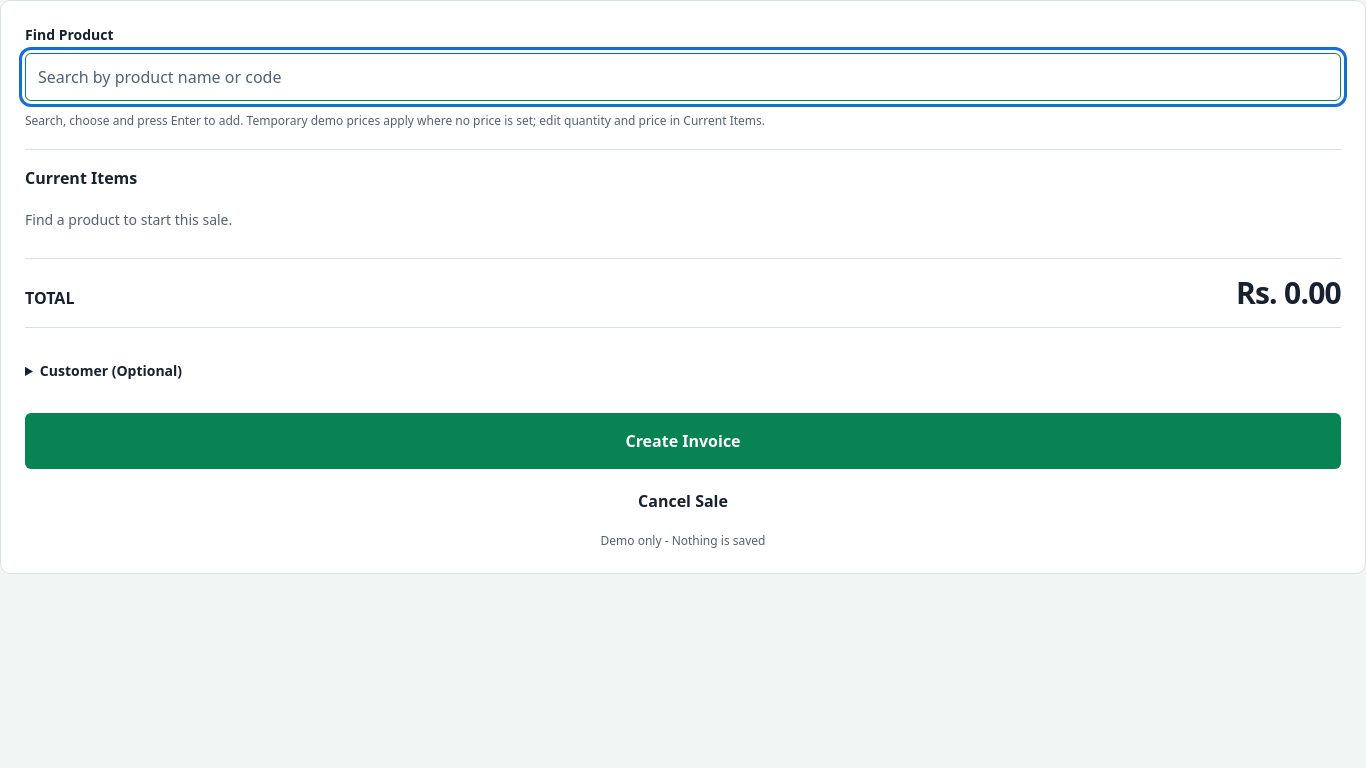
Scenario: keeps the existing valid price policy for 100
The image size is (1366, 768).
Type "dia" into the dropdown labelled "Find Product".
click(683, 77); type("dia")  # box [25, 53, 1341, 101]
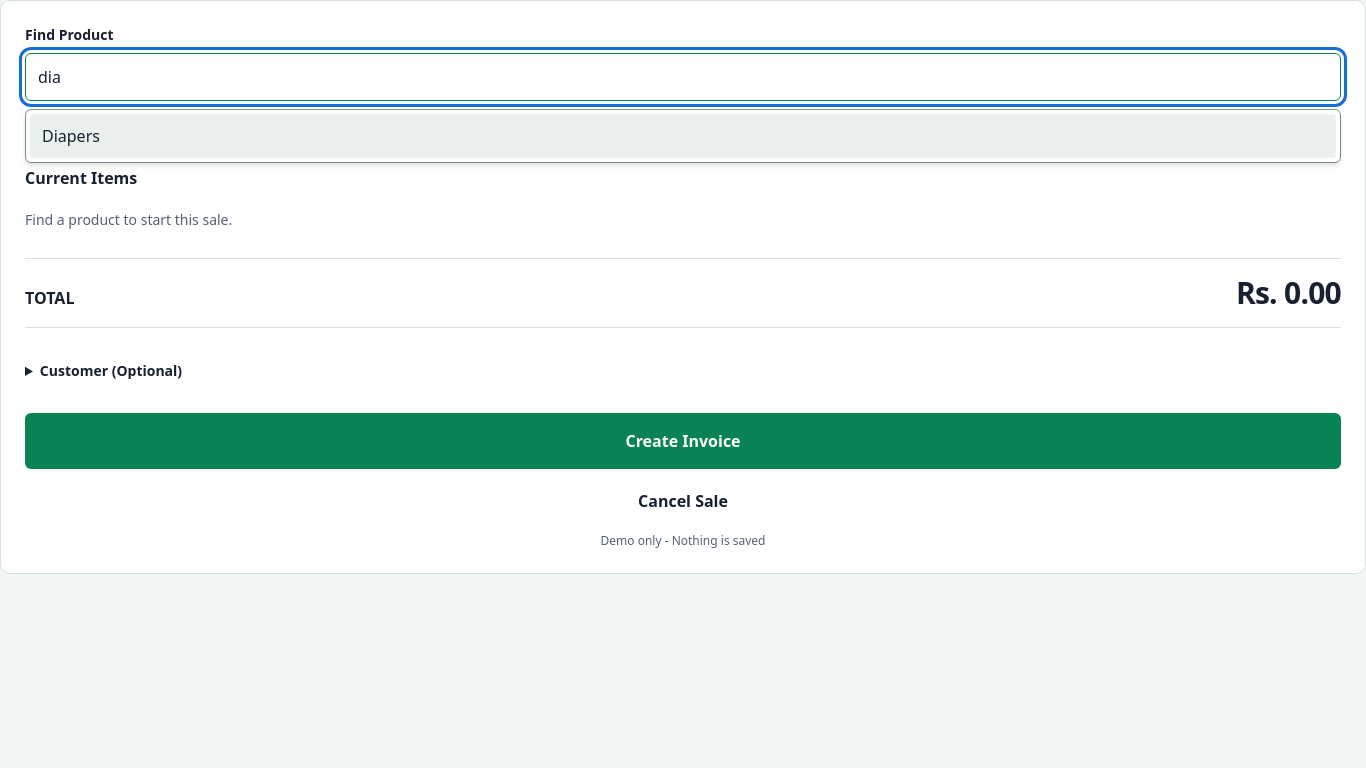
Press Enter in the dropdown labelled "Find Product", box [25, 53, 1341, 101]
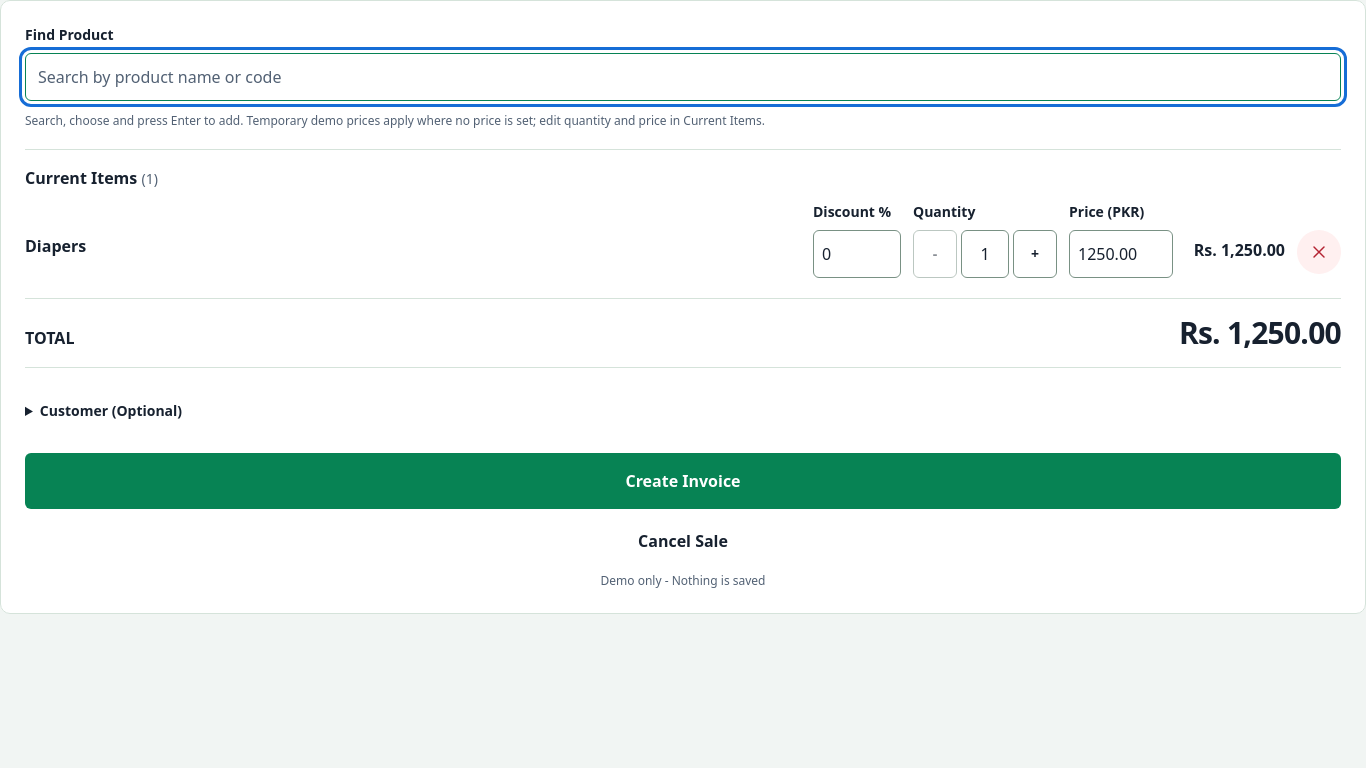
Replace the text in the field named "Diapers quantity, item 1" with "2" at (985, 254), box [961, 230, 1009, 278]
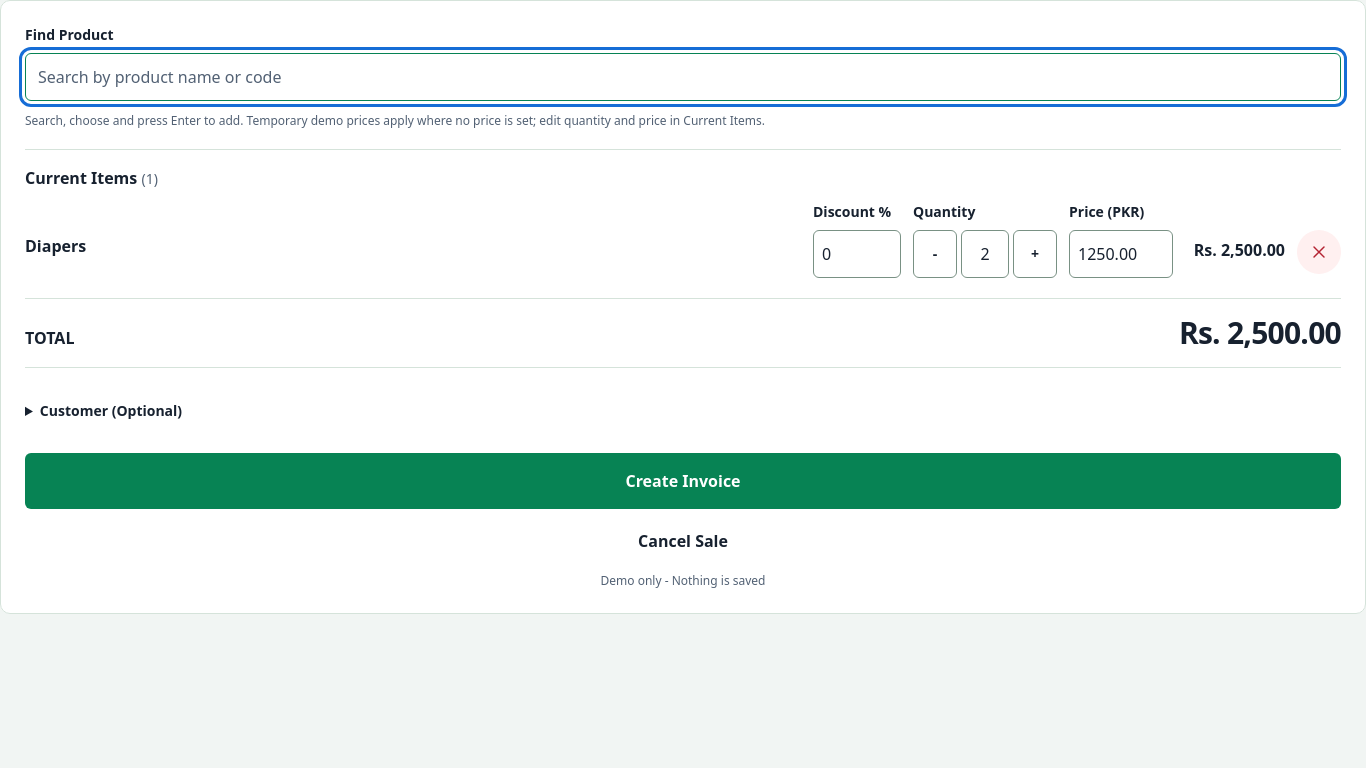
Replace the text in the field named "Diapers price (PKR), item 1" with "100" at (1121, 254), box [1069, 230, 1173, 278]
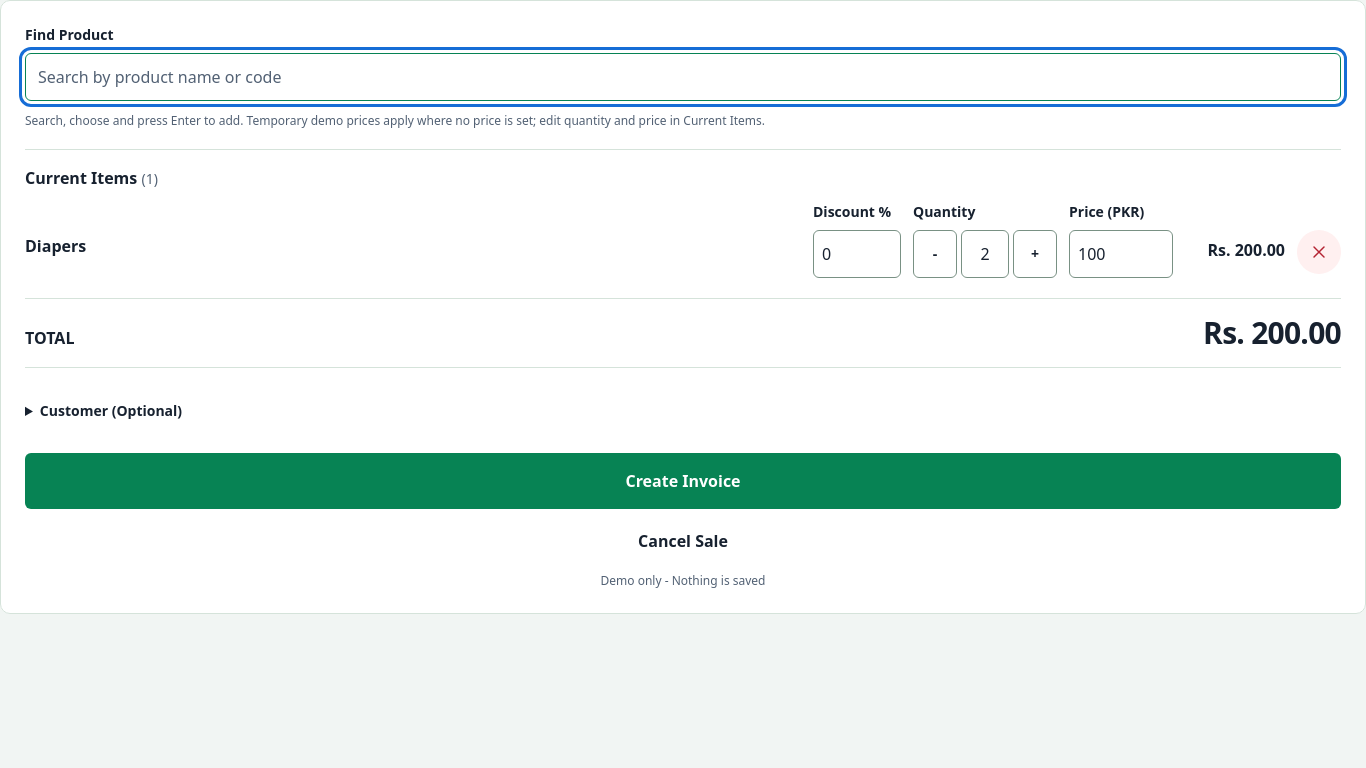
Submit the form
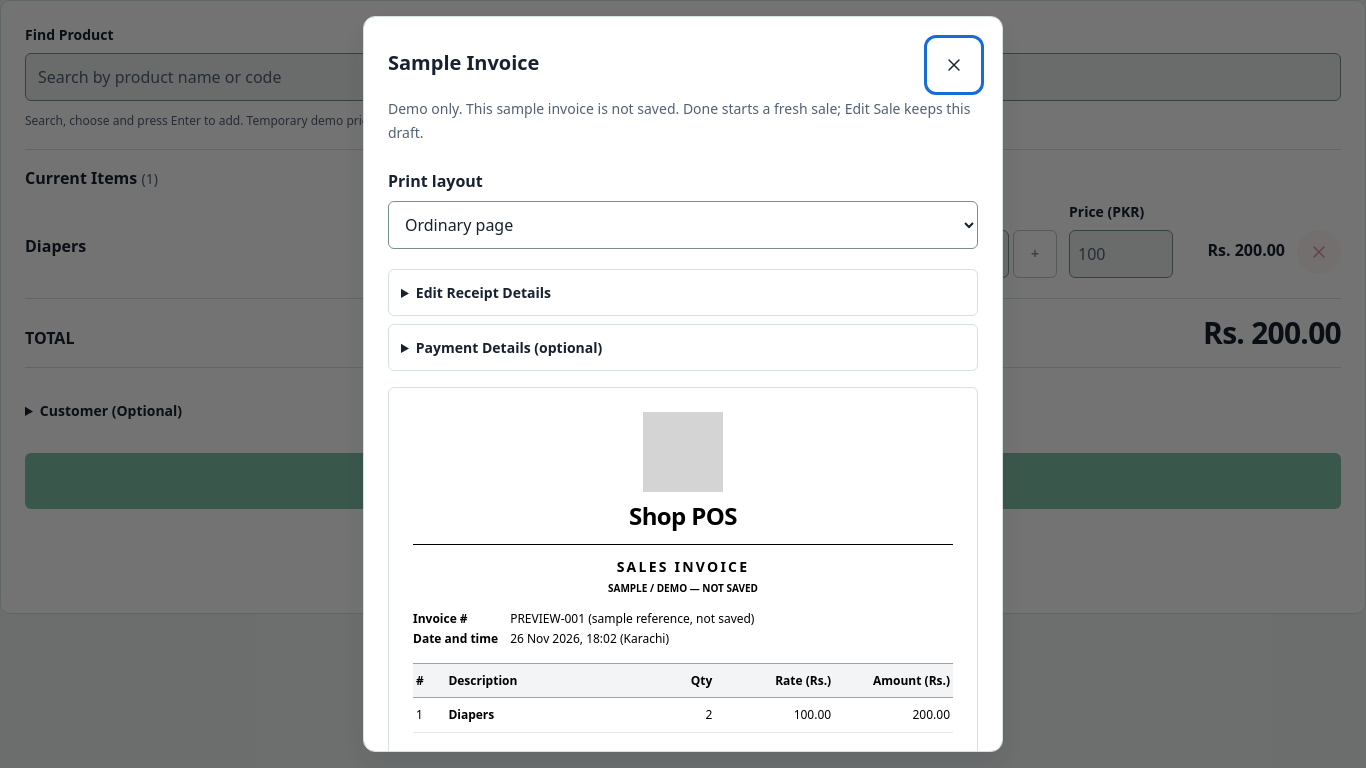
Now the dialog "Sample Invoice" is shown, box [363, 16, 1003, 752]
